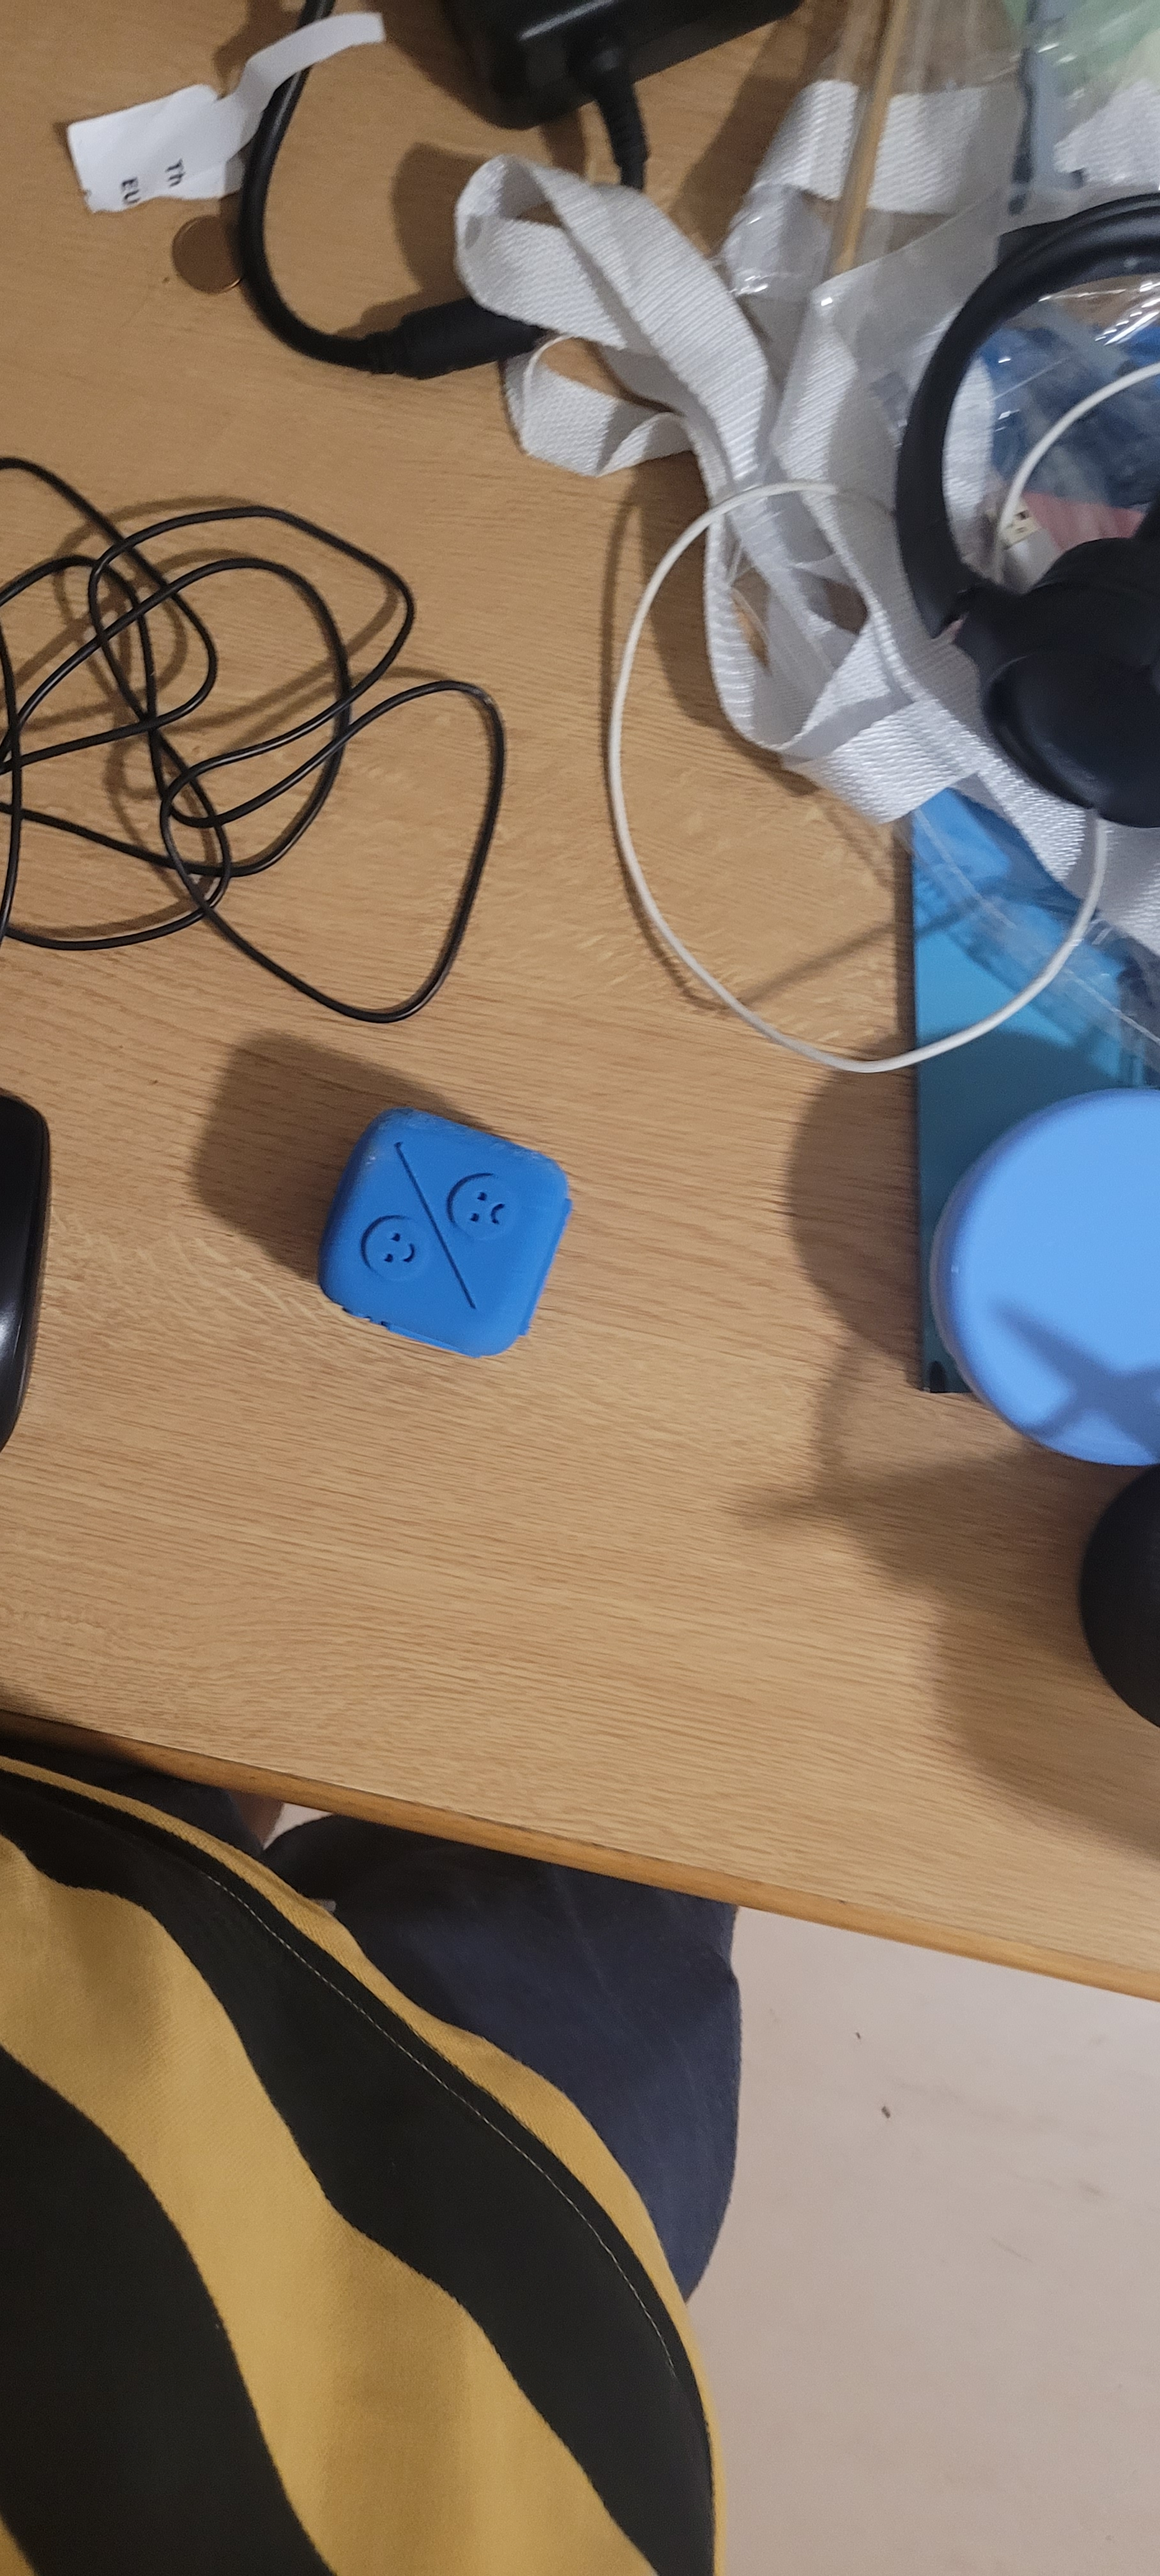Like/Dislike: (347, 1129, 600, 1350)
